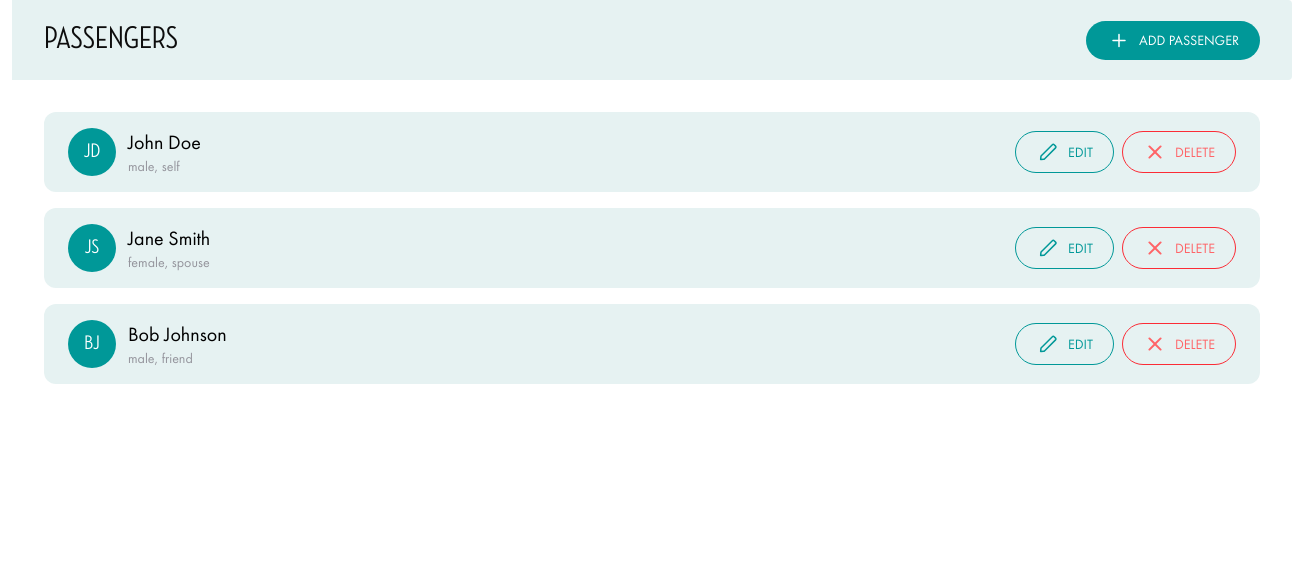
Test: TravellersTab Component › Delete Passenger Functionality › should delete passenger when confirmed
This screenshot has width=1292, height=567.
Expected: the text "John Doe" is shown, [128,128,201,156]
Click the button "Delete" in the row of "John Doe" at (1179, 152), box [1122,131,1236,173]
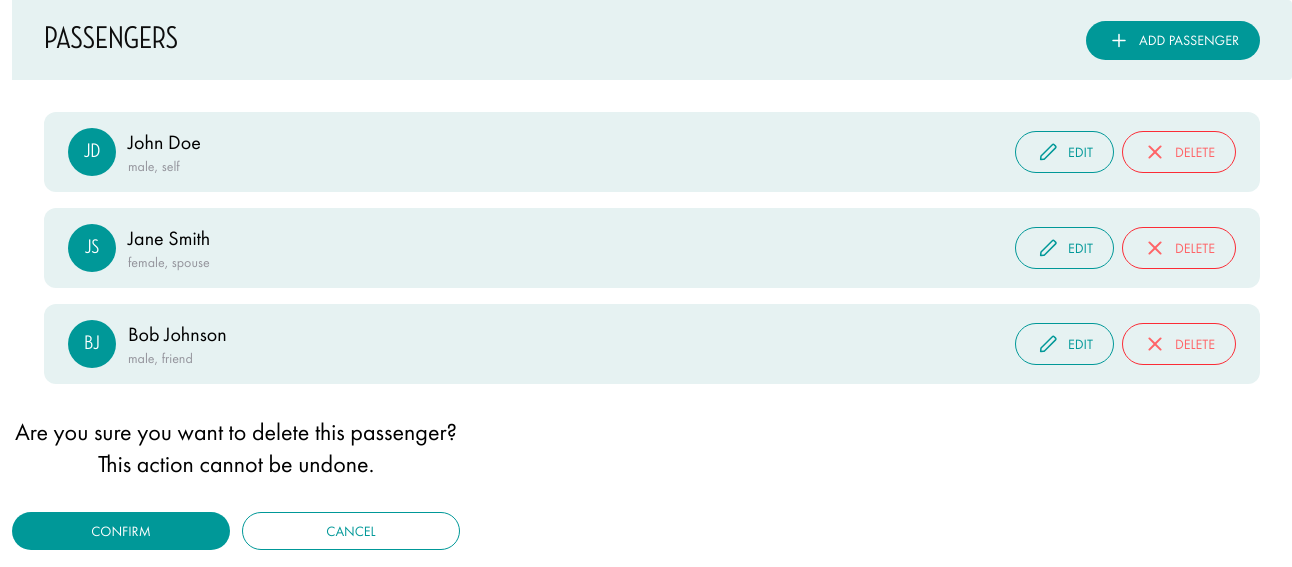
Click the button "Confirm" at (121, 531), box [12,512,230,550]
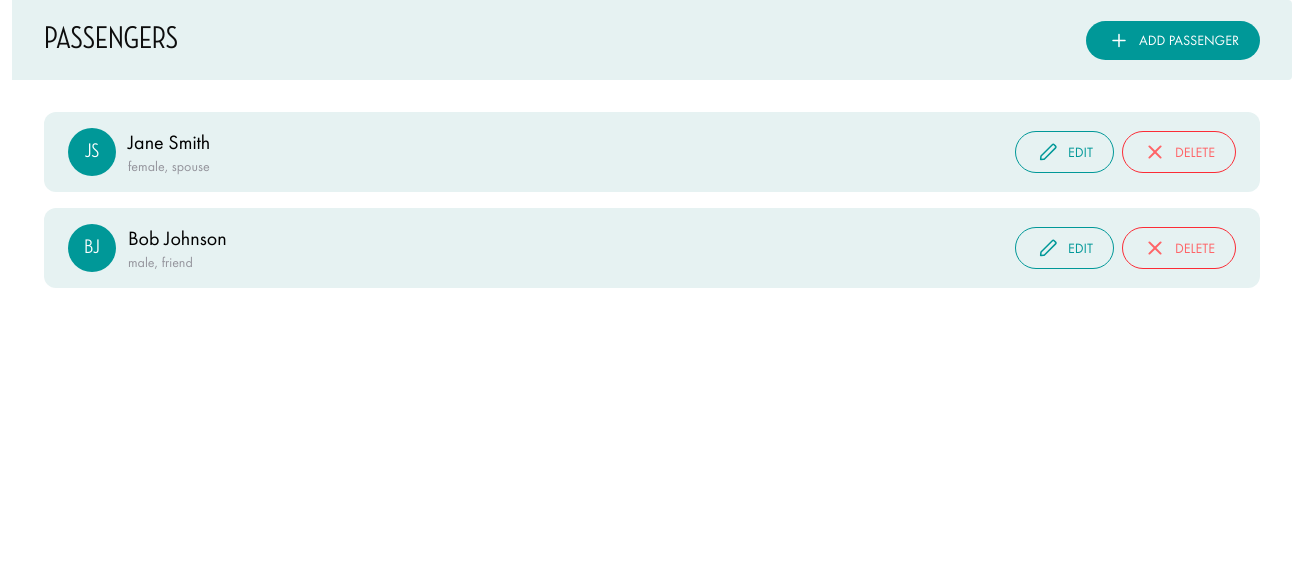
Expected: the text "John Doe" is gone
